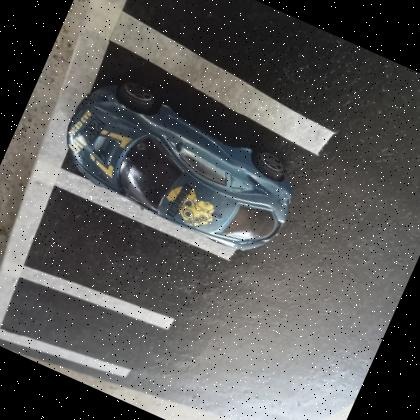Car: (66, 78, 293, 252)
